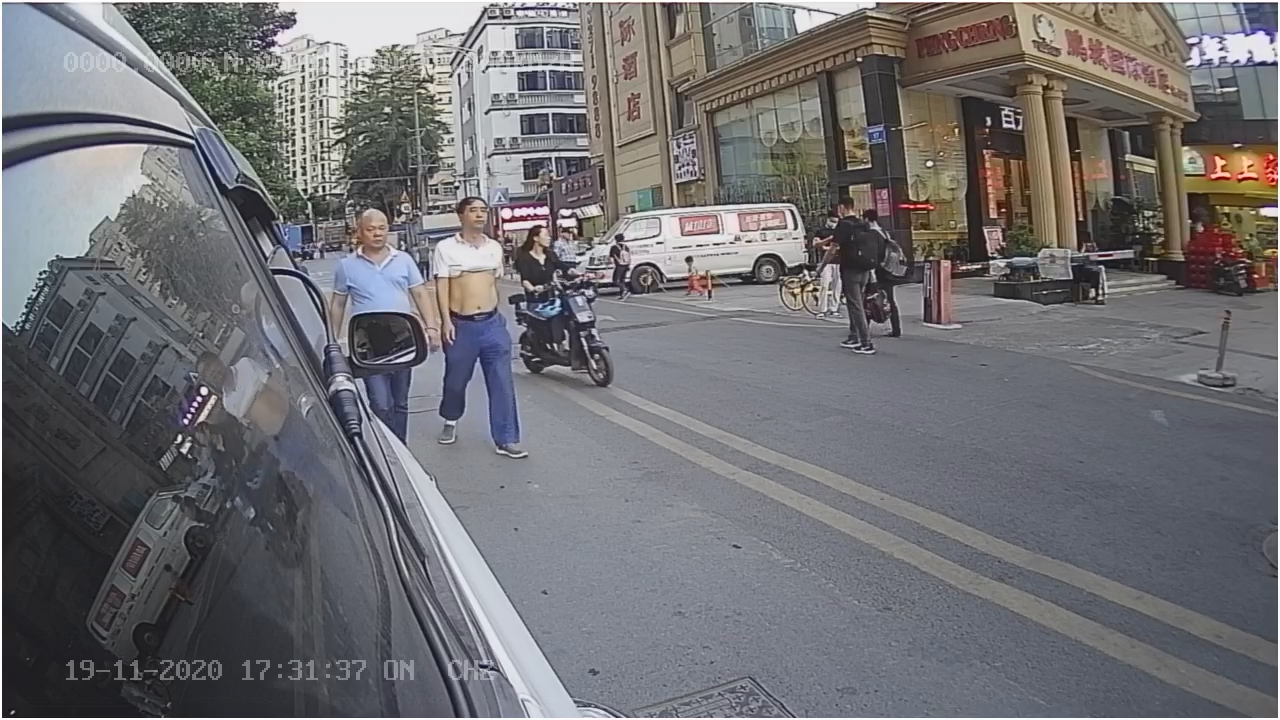person: (433, 192, 512, 465)
